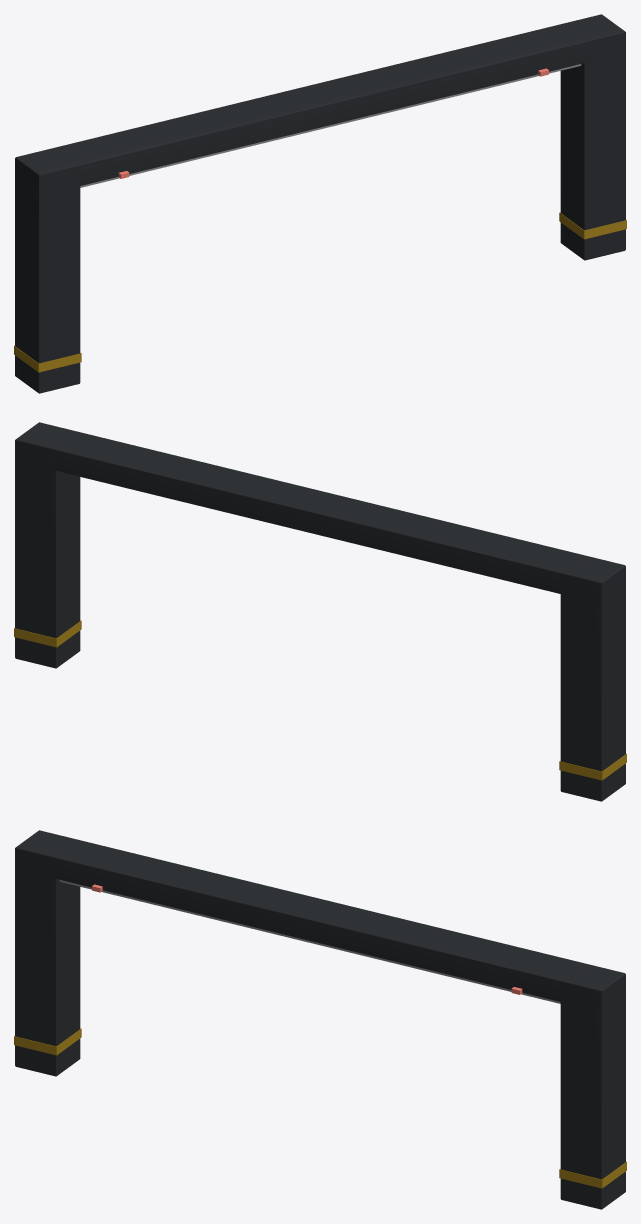
The model's file is Gate_Facility_Frame.fbx.
The picture shows the model from 3 angles, top to bottom: view 1: azimuth 30°, elevation 25°; view 2: azimuth 150°, elevation 25°; view 3: azimuth 330°, elevation 25°; orthographic projection.
Parts seen in each view (by area): view 1: Gate_Facility_Frame_LOD0; view 2: Gate_Facility_Frame_LOD0; view 3: Gate_Facility_Frame_LOD0.
Boxes of the visible parts, bbox=[...] form: Gate_Facility_Frame_LOD0: bbox=[14, 14, 626, 393]; Gate_Facility_Frame_LOD0: bbox=[14, 422, 626, 801]; Gate_Facility_Frame_LOD0: bbox=[14, 830, 626, 1209].
Size of what is drawn, in the model's own units: 28.04 by 10 by 2.22.
